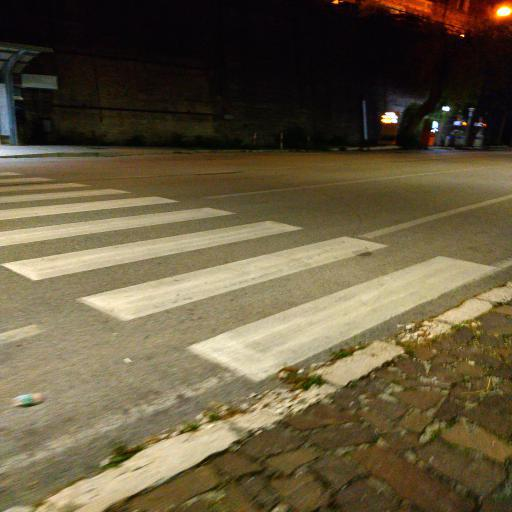crosswalk: (1, 214, 400, 345)
